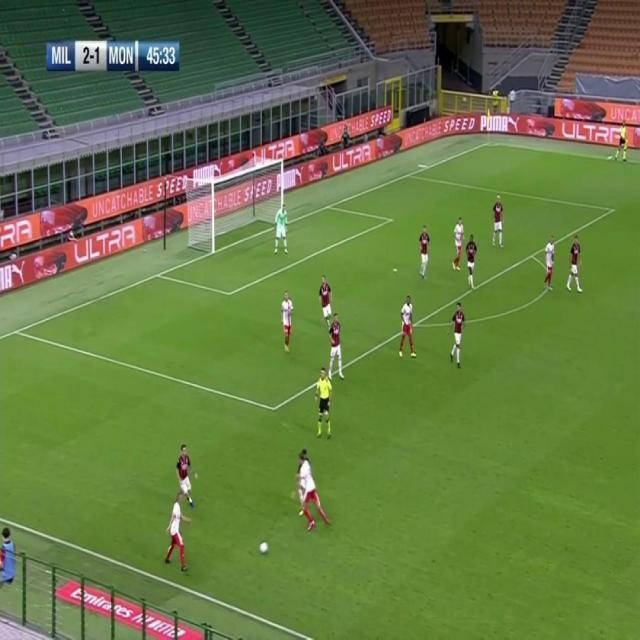ball: (259, 541, 269, 555)
goalkeeper: (274, 204, 291, 257)
player: (292, 453, 333, 531), (166, 492, 191, 573), (174, 443, 202, 508), (398, 294, 417, 361), (446, 304, 465, 368), (330, 313, 347, 384), (566, 234, 584, 296), (280, 290, 296, 355), (317, 274, 333, 333), (491, 194, 505, 251), (451, 216, 465, 273), (543, 234, 555, 291), (418, 224, 430, 281), (465, 234, 477, 287)
referee: (315, 367, 335, 440), (615, 119, 629, 165)
